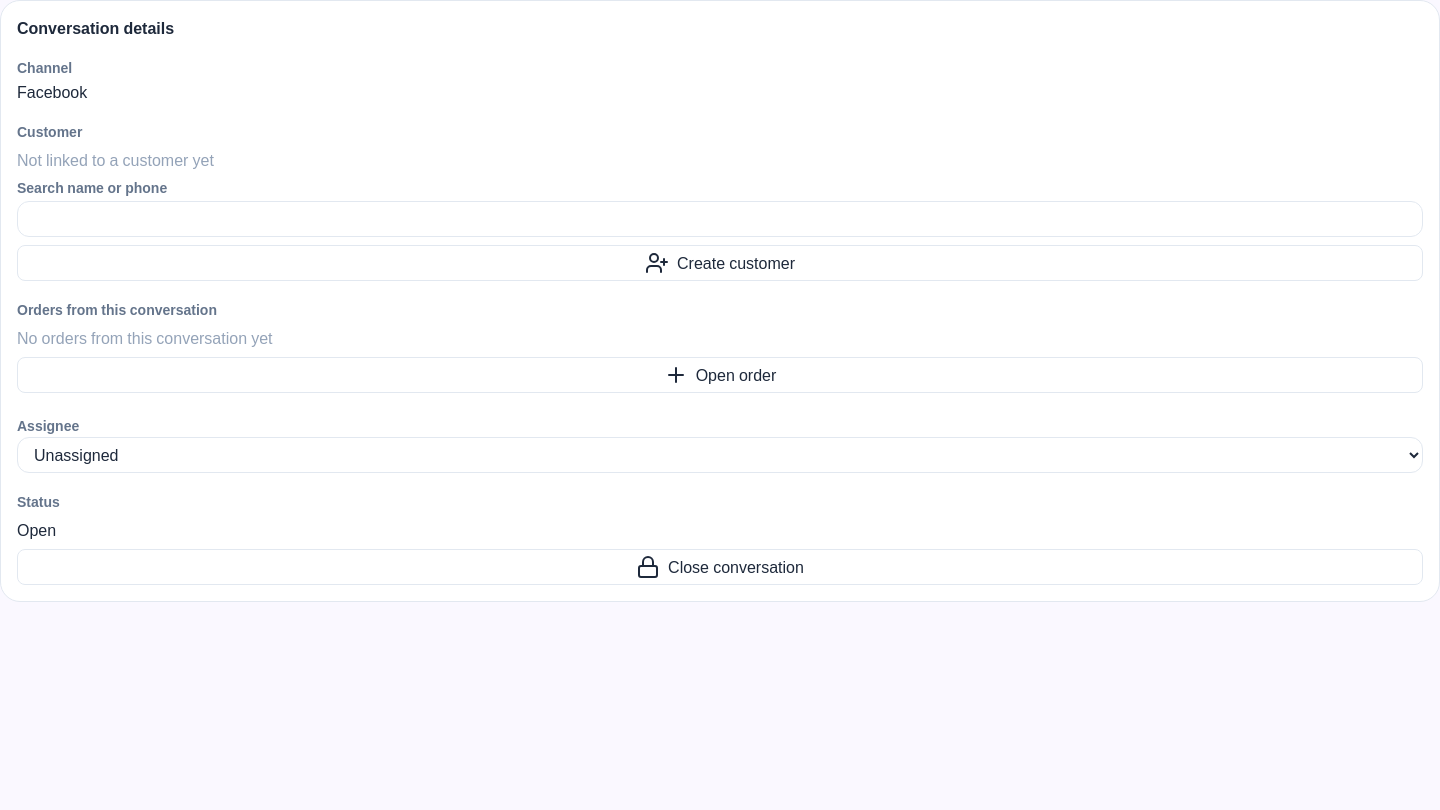
Test: SidePanel › ຍັງບໍ່ລິ້ງລູກຄ້າ: ມີຄຳບອກ, ຄົ້ນຫາລູກຄ້າທີ່ມີ (ເມື່ອມີ orders:read) ແລະ ປຸ່ມສ້າງໃໝ່ ທີ່ເປີດ dialog
The width and height of the screenshot is (1440, 810).
Expected: the text "Not linked to a customer yet" is shown, 17,147 -> 214,173
Expected: the dropdown labelled "Search name or phone" is shown, 17,201 -> 1423,237
Click the button "Create customer" at (720, 263), box 17,245 -> 1423,281
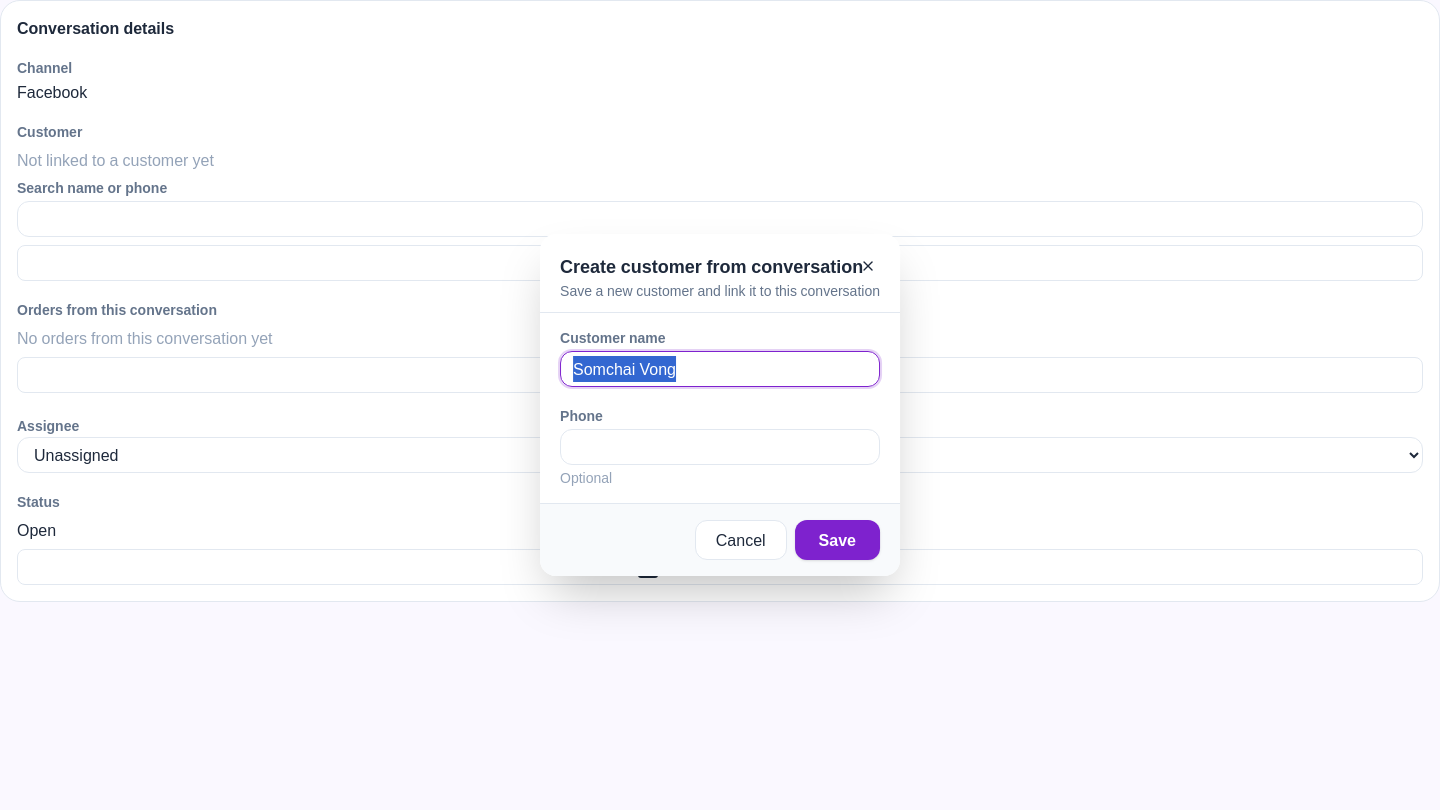
Now the dialog "Create customer from conversation" is shown, box 540,234 -> 900,576
